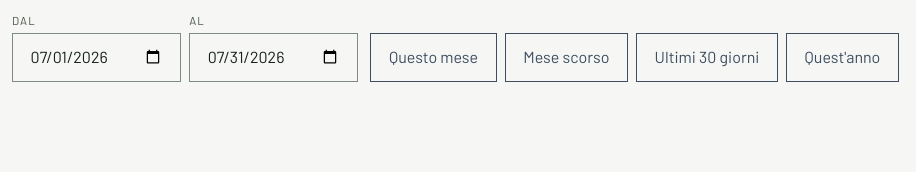
Test: scorciatoie di periodo › aggiorna i campi visibili con le date risolte
Click the button "Mese scorso". click: (566, 58)
box: [505,33,628,82]
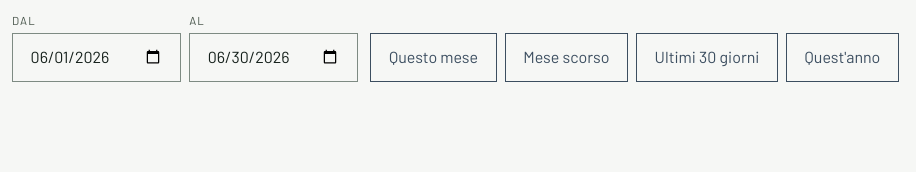
Check: the date field below "Dal" holds "2026-06-01", box [12,33,181,82]
Check: the 2nd date field holds "2026-06-30", box [189,33,358,82]
